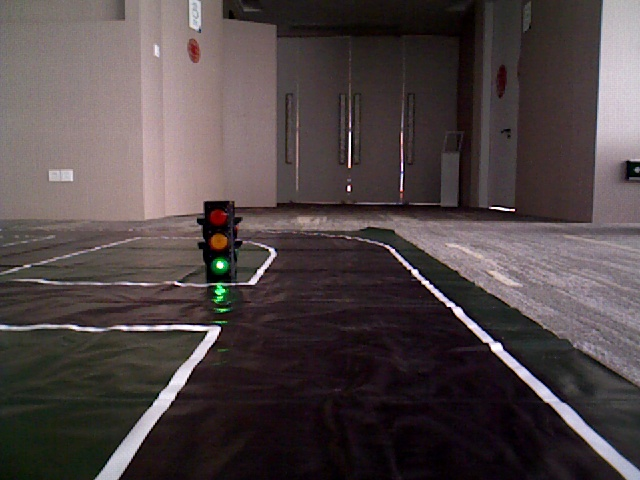green: (203, 202, 231, 273)
